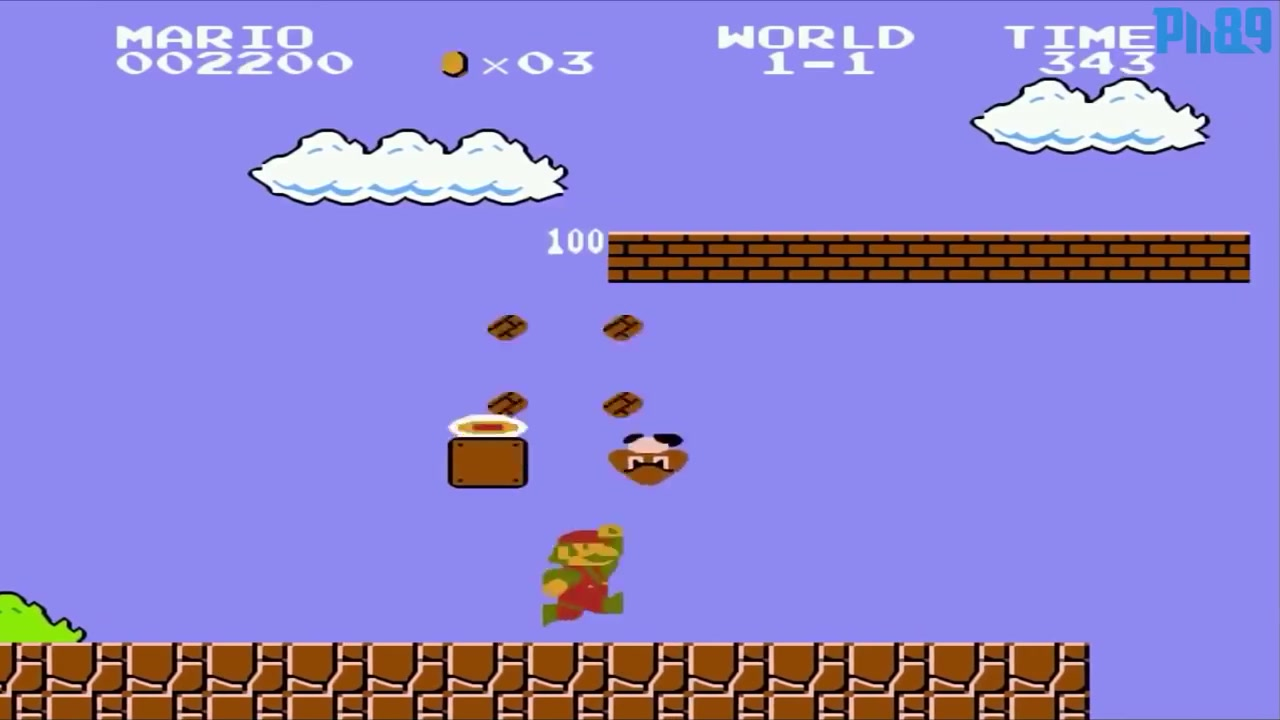mario: (533, 516, 638, 629)
